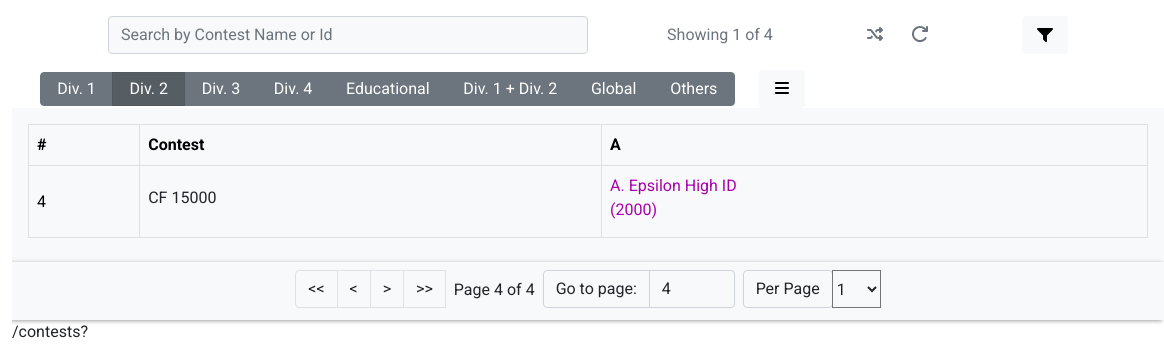
Test: narrowing category results from a late page resets to a valid page
Step 1. Click the button "Div. 3" → (221, 89), box [184,72,258,106]
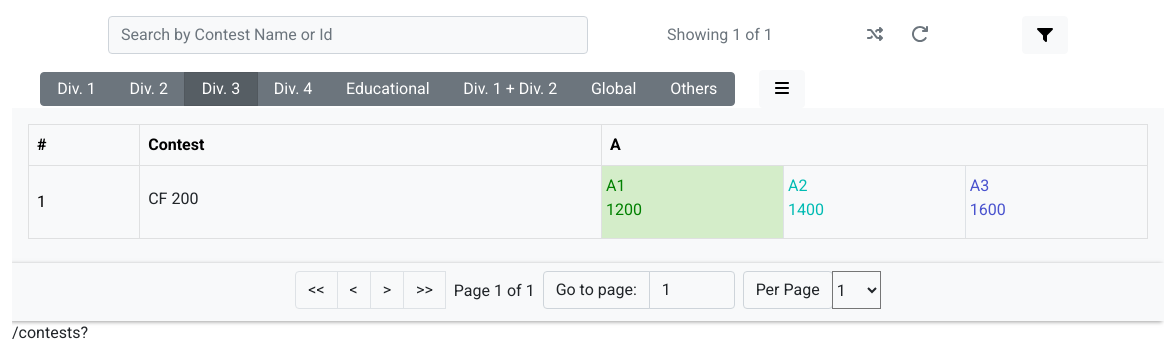
Now the text "Page 1 of 1" is shown, box [454,281,535,300]
